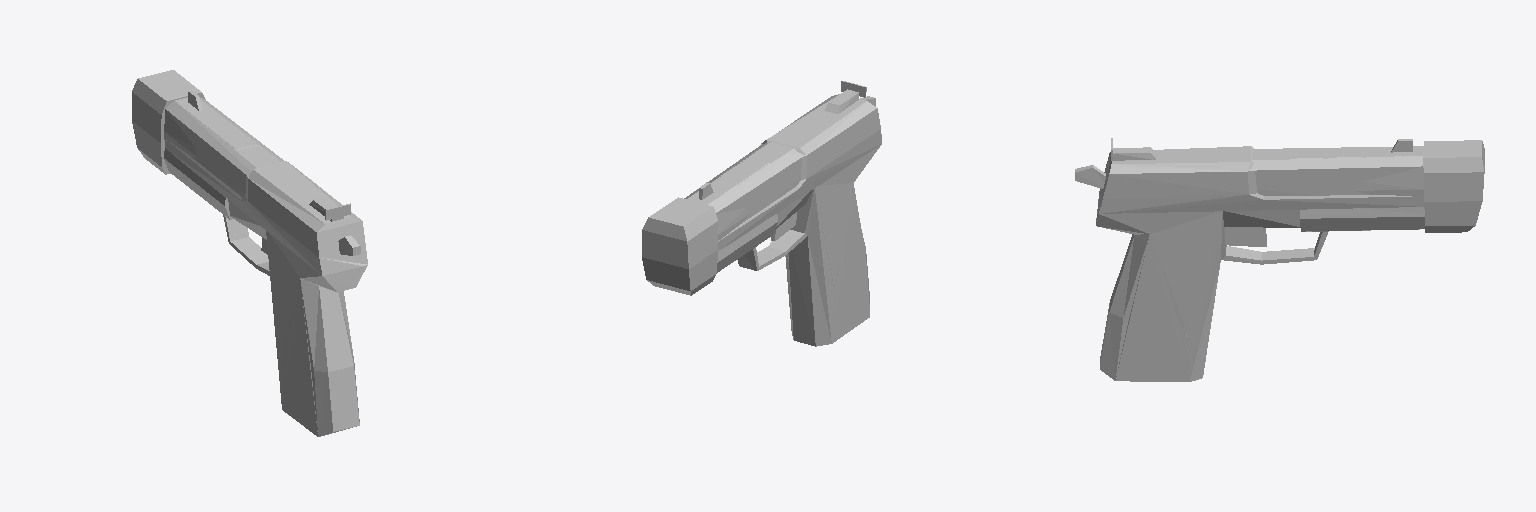
Rendered from HL2 Pistol.obj.
3 renders of one model, left to right at view 1: azimuth 30°, elevation 25°; view 2: azimuth 150°, elevation 25°; view 3: azimuth 270°, elevation 25°, orthographic.
Visible parts, largest first — view 1: w_pistol_Pistol_reference_lod1; view 2: w_pistol_Pistol_reference_lod1; view 3: w_pistol_Pistol_reference_lod1.
Part boxes in pixels (left/top/right/bottom): w_pistol_Pistol_reference_lod1: left=132, top=70, right=367, bottom=436; w_pistol_Pistol_reference_lod1: left=642, top=81, right=881, bottom=346; w_pistol_Pistol_reference_lod1: left=1075, top=138, right=1484, bottom=381.
Bounding box in the file's own units: 1.48 × 6.62 × 10.57.